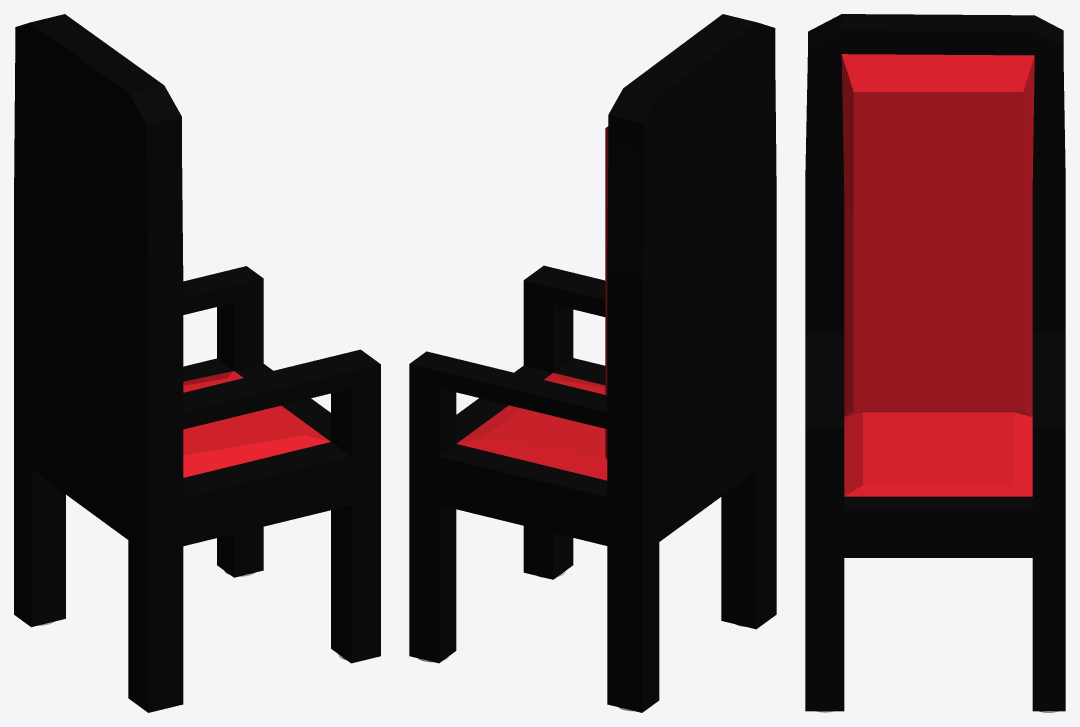
The model's file is ChairtABLE.fbx.
The picture shows the model from 3 angles, left to right: view 1: azimuth 30°, elevation 25°; view 2: azimuth 150°, elevation 25°; view 3: azimuth 270°, elevation 25°; orthographic projection. The views are drawn at different scales.
Parts seen in each view (by area): view 1: Cube.003; view 2: Cube.003; view 3: Cube.003.
Boxes of the visible parts, x1,y1,x2,y2 form: Cube.003: [14, 14, 380, 712]; Cube.003: [409, 14, 776, 712]; Cube.003: [805, 14, 1065, 712].
Size of the model in its own units: 40 by 99.8 by 40.
